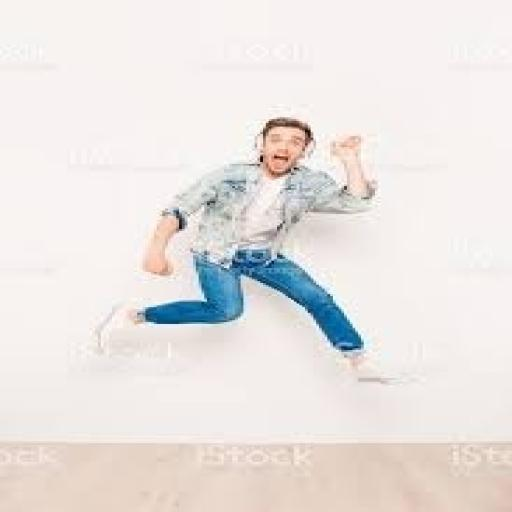listening_to_music: (104, 114, 406, 387)
